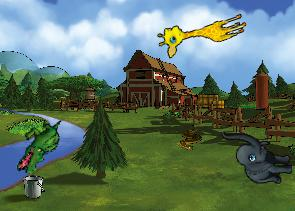crocodile: (15, 113, 63, 179)
elephant: (221, 127, 293, 186)
giraffe: (154, 2, 249, 60)
